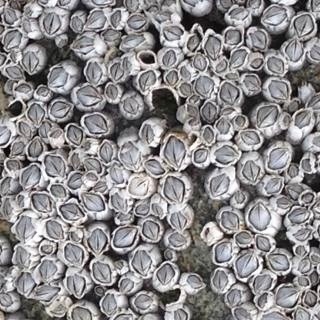Barnacle: (163, 133, 185, 168), (162, 175, 185, 204), (248, 201, 271, 229), (234, 252, 258, 277), (120, 140, 140, 170), (75, 85, 102, 106), (15, 216, 36, 242), (256, 104, 278, 128), (44, 154, 65, 179), (82, 113, 107, 134), (132, 249, 152, 275), (87, 229, 106, 256), (274, 286, 298, 307), (80, 191, 105, 211), (210, 173, 230, 198), (212, 144, 237, 164), (58, 202, 84, 221), (155, 262, 177, 284), (267, 79, 289, 101), (114, 226, 137, 247), (19, 164, 40, 187), (219, 82, 240, 105), (293, 14, 314, 37), (64, 242, 83, 267), (72, 36, 97, 55), (41, 12, 60, 37), (263, 6, 288, 25), (267, 147, 289, 168), (195, 75, 215, 98), (50, 100, 72, 120), (66, 273, 84, 297), (40, 259, 60, 280), (48, 66, 68, 87), (16, 273, 35, 295), (220, 210, 239, 232), (21, 50, 39, 73), (129, 176, 148, 197), (86, 10, 107, 29), (93, 261, 111, 283), (285, 38, 302, 61), (84, 61, 100, 85), (170, 211, 189, 231), (31, 193, 51, 212), (3, 29, 22, 49), (46, 219, 64, 240), (27, 103, 45, 124), (15, 246, 30, 271), (215, 241, 232, 263), (242, 159, 259, 181), (138, 70, 155, 92), (268, 253, 288, 271), (141, 219, 159, 239), (144, 157, 164, 175), (292, 226, 313, 243), (35, 286, 58, 301), (110, 161, 125, 184), (205, 36, 220, 59), (134, 292, 154, 309), (110, 192, 127, 212), (240, 129, 261, 145), (66, 124, 82, 145), (122, 33, 143, 49), (254, 273, 272, 291), (190, 54, 208, 72), (242, 74, 259, 93), (267, 55, 284, 74), (249, 30, 266, 49), (288, 208, 309, 223), (71, 305, 93, 319), (102, 293, 116, 315), (287, 183, 304, 201), (264, 177, 282, 194), (230, 50, 246, 69), (226, 289, 241, 309), (28, 136, 43, 156), (4, 65, 24, 80), (294, 110, 310, 128), (212, 270, 227, 289), (163, 26, 182, 41), (127, 14, 146, 29), (108, 61, 122, 81), (152, 10, 172, 24), (141, 124, 154, 145), (187, 31, 200, 52), (185, 273, 202, 289), (85, 155, 101, 172), (122, 96, 138, 113), (224, 29, 241, 45), (100, 140, 112, 162), (276, 195, 293, 210), (68, 172, 83, 189), (215, 117, 230, 134), (202, 103, 216, 121), (162, 48, 175, 67), (256, 236, 271, 252), (194, 147, 209, 163), (235, 231, 252, 245), (50, 184, 67, 198), (11, 140, 25, 157), (228, 8, 249, 19), (297, 257, 311, 273), (168, 233, 185, 246), (202, 126, 214, 144), (19, 120, 31, 138), (13, 82, 31, 94), (110, 9, 122, 27), (0, 177, 11, 196), (256, 291, 269, 307), (39, 122, 52, 138), (3, 8, 16, 24), (233, 307, 250, 319), (120, 277, 132, 294), (2, 198, 12, 218), (295, 306, 310, 319), (304, 291, 317, 306), (151, 201, 163, 217), (93, 181, 109, 193), (166, 68, 177, 85), (72, 16, 83, 33), (0, 293, 13, 307), (307, 94, 319, 109), (215, 58, 227, 73), (186, 103, 197, 119), (103, 29, 119, 40), (135, 203, 149, 215), (5, 159, 19, 171), (105, 85, 117, 99), (301, 158, 312, 173), (70, 152, 80, 168), (122, 55, 132, 71), (288, 99, 300, 112), (173, 308, 187, 319), (52, 303, 66, 314), (235, 115, 246, 129), (35, 85, 49, 96), (250, 57, 264, 68), (220, 106, 237, 115), (310, 45, 319, 62), (294, 244, 306, 256), (40, 243, 53, 254), (125, 0, 138, 11), (180, 82, 190, 96), (180, 66, 190, 80), (235, 190, 245, 203), (287, 164, 297, 177), (159, 0, 175, 8), (70, 229, 80, 241), (302, 192, 314, 202), (118, 212, 131, 221), (23, 19, 32, 32), (309, 270, 317, 284), (205, 227, 213, 241), (50, 129, 61, 139), (86, 173, 98, 182), (17, 194, 25, 207), (225, 71, 238, 79), (220, 0, 233, 8), (248, 0, 261, 8), (145, 4, 156, 13), (10, 50, 18, 62), (282, 115, 289, 127), (116, 260, 124, 270), (25, 6, 33, 16), (311, 254, 319, 263), (83, 139, 90, 149)
